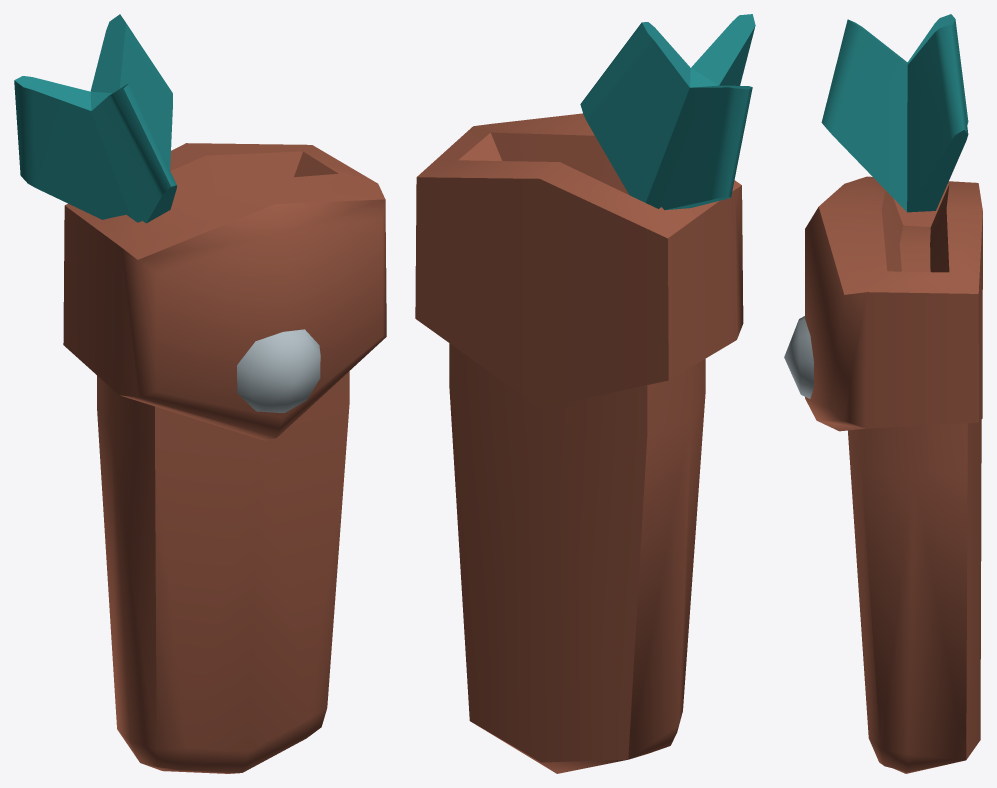
File: quiver_half_full.glb
3 renders of one model, left to right at view 1: azimuth 30°, elevation 25°; view 2: azimuth 150°, elevation 25°; view 3: azimuth 270°, elevation 25°, orthographic. The views are drawn at different scales.
Parts seen in each view (by area): view 1: quiver_half_full; view 2: quiver_half_full; view 3: quiver_half_full.
Boxes of the visible parts, box(x1,y1,x2,y2) form: quiver_half_full: box(14, 14, 386, 773); quiver_half_full: box(415, 14, 755, 773); quiver_half_full: box(784, 14, 982, 773).
Size of the model in its own units: 0.0532 by 0.121 by 0.0311.
